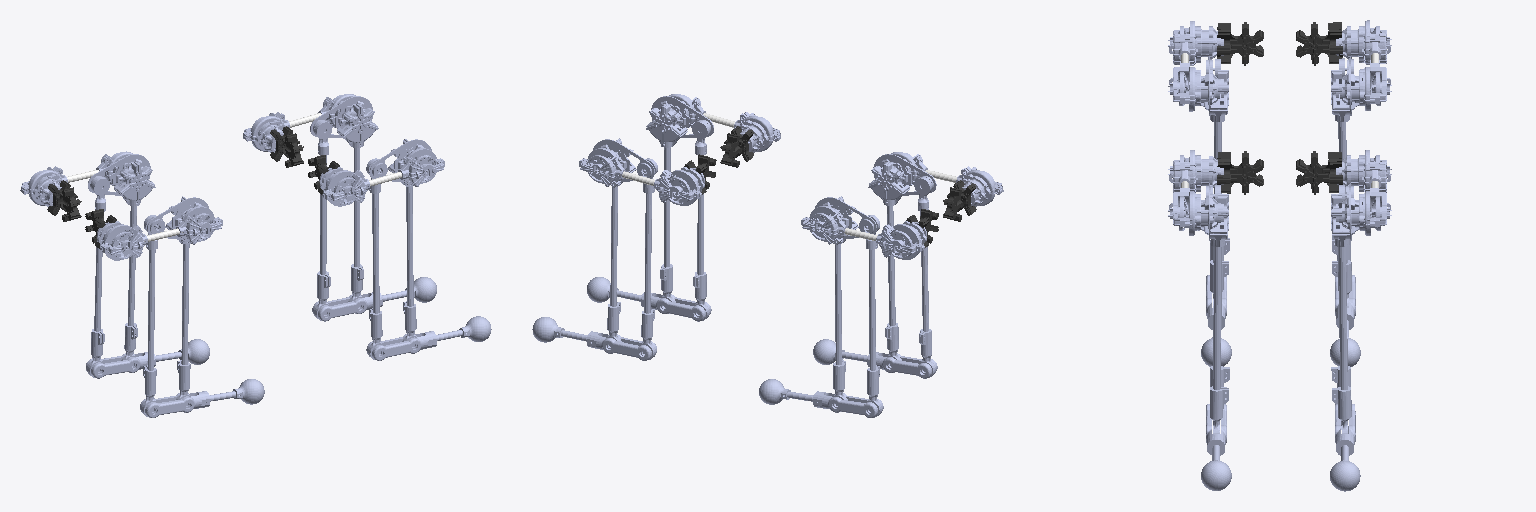
--- Facts derived from the render (not from the file) ---
Views: 3 orthographic renders of the robot side by side, from view 1: azimuth 30°, elevation 25°; view 2: azimuth 150°, elevation 25°; view 3: azimuth 270°, elevation 25°.
Model New_Simscape_Assem with 29 links and 28 joints (20 revolute, 8 fixed), rooted at Payload_Structure, posed every joint at zero.
Visible links, largest first — view 1: Tibia_FR, Knee_Actuator_BL, Knee_Actuator_FL, Tibia_BR, Foot_BL, Foot_FL, Foot_BR, Foot_FR, HS_Actuator_BL, HS_Actuator_FL, Fibula_BR, Fibula_BL (+10 smaller); view 2: Tibia_FL, Knee_Actuator_BR, Knee_Actuator_FR, Tibia_BL, Foot_BR, Foot_FR, Foot_BL, Foot_FL, HS_Actuator_BR, HS_Actuator_FR, Fibula_FR, Fibula_BR (+10 smaller); view 3: Tibia_BR, Tibia_BL, Knee_Actuator_FR, Knee_Actuator_FL, Knee_Actuator_BR, Knee_Actuator_BL, HS_Actuator_FL, HS_Actuator_FR, Foot_BR, Foot_BL, HS_Actuator_BR, HS_Actuator_BL (+8 smaller).
Boxes of the visible links, x1,y1,x2,y2 form: Tibia_FR: [114, 162, 155, 366]; Knee_Actuator_BL: [369, 139, 444, 187]; Knee_Actuator_FL: [147, 197, 222, 245]; Tibia_BR: [337, 104, 378, 313]; Foot_BL: [366, 316, 491, 360]; Foot_FL: [140, 379, 264, 417]; Foot_BR: [312, 277, 436, 321]; Foot_FR: [86, 339, 209, 378]; HS_Actuator_BL: [319, 167, 369, 206]; HS_Actuator_FL: [97, 221, 147, 260]; Fibula_BR: [314, 120, 331, 320]; Fibula_BL: [366, 158, 384, 359]; Tibia_FL: [868, 161, 909, 372]; Knee_Actuator_BR: [579, 139, 654, 187]; Knee_Actuator_FR: [801, 197, 876, 244]; Tibia_BL: [646, 104, 687, 313]; Foot_BR: [532, 317, 656, 360]; Foot_FR: [759, 379, 883, 417]; Foot_BL: [587, 277, 711, 321]; Foot_FL: [813, 339, 937, 378]; HS_Actuator_BR: [654, 167, 704, 205]; HS_Actuator_FR: [876, 221, 926, 259]; Fibula_FR: [866, 215, 882, 417]; Fibula_BR: [639, 158, 657, 359]; Tibia_BR: [1331, 194, 1351, 433]; Tibia_BL: [1210, 194, 1228, 433]; Knee_Actuator_FR: [1336, 57, 1391, 115]; Knee_Actuator_FL: [1168, 57, 1223, 115]; Knee_Actuator_BR: [1336, 183, 1391, 240]; Knee_Actuator_BL: [1168, 183, 1223, 240]; HS_Actuator_FL: [1168, 21, 1223, 65]; HS_Actuator_FR: [1336, 20, 1391, 64]; Foot_BR: [1330, 404, 1360, 491]; Foot_BL: [1201, 404, 1231, 490]; HS_Actuator_BR: [1336, 150, 1391, 192]; HS_Actuator_BL: [1168, 150, 1223, 192].
Size in the robot's own frame: 0.7123 by 0.2905 by 0.3847 metres.
28 mesh visuals loaded from 29 distinct referenced files (28 binary STL); not drawn: 1 (reference not matched to a file when rendering).

URDF robot description (New_Simscape_Assem):
<?xml version="1.0" encoding="utf-8"?>
<!-- This URDF was automatically created by SolidWorks to URDF Exporter! Originally created by Stephen Brawner ([email redacted]) 
     Commit Version:   Build Version: 1.6.8715.24790
     For more information, please see http://wiki.ros.org/sw_urdf_exporter 
     
     MODIFIED: Joint limits have been corrected to allow realistic motion -->
<robot
  name="New_Simscape_Assem">
  <link
    name="Payload_Structure">
    <inertial>
      <origin
        xyz="0.011584 -0.00010559 0.11423"
        rpy="0 0 0" />
      <mass
        value="4.1675" />
      <inertia
        ixx="0.015415"
        ixy="-7.8965E-08"
        ixz="1.9561E-05"
        iyy="0.023083"
        iyz="2.7336E-07"
        izz="0.035597" />
    </inertial>
    <visual>
      <origin
        xyz="0 0 0"
        rpy="0 0 0" />
      <geometry>
        <mesh
          filename="package://New_Simscape_Assem/meshes/Payload_Structure.STL" />
      </geometry>
      <material
        name="">
        <color
          rgba="0.79216 0.81961 0.93333 1" />
      </material>
    </visual>
    <collision>
      <origin
        xyz="0 0 0"
        rpy="0 0 0" />
      <geometry>
        <mesh
          filename="package://New_Simscape_Assem/meshes/Payload_Structure.STL" />
      </geometry>
    </collision>
  </link>
  <link
    name="Hip_Coupling_FR">
    <inertial>
      <origin
        xyz="0.010875 -0.016201 0.00298"
        rpy="0 0 0" />
      <mass
        value="0.028158" />
      <inertia
        ixx="6.702E-06"
        ixy="2.2014E-12"
        ixz="-1.9864E-07"
        iyy="9.5392E-06"
        iyz="1.9931E-12"
        izz="1.2481E-05" />
    </inertial>
    <visual>
      <origin
        xyz="0 0 0"
        rpy="0 0 0" />
      <geometry>
        <mesh
          filename="package://New_Simscape_Assem/meshes/Hip_Coupling_FR.STL" />
      </geometry>
      <material
        name="">
        <color
          rgba="0.29804 0.29804 0.29804 1" />
      </material>
    </visual>
    <collision>
      <origin
        xyz="0 0 0"
        rpy="0 0 0" />
      <geometry>
        <mesh
          filename="package://New_Simscape_Assem/meshes/Hip_Coupling_FR.STL" />
      </geometry>
    </collision>
  </link>
  <joint
    name="Hip_Frontal_FR"
    type="revolute">
    <origin
      xyz="-0.16725 0.045232 0.0074557"
      rpy="1.5708 -0.014386 1.5708" />
    <parent
      link="Payload_Structure" />
    <child
      link="Hip_Coupling_FR" />
    <axis
      xyz="0 0 -1" />
    <limit
      lower="-0.52"
      upper="0.52"
      effort="10"
      velocity="5" />
  </joint>
  <link
    name="HS_Actuator_FR">
    <inertial>
      <origin
        xyz="0.00311 0.016192 0.034844"
        rpy="0 0 0" />
      <mass
        value="0.067844" />
      <inertia
        ixx="1.1918E-05"
        ixy="-6.2189E-09"
        ixz="-2.7463E-07"
        iyy="1.7243E-05"
        iyz="2.5876E-09"
        izz="2.452E-05" />
    </inertial>
    <visual>
      <origin
        xyz="0 0 0"
        rpy="0 0 0" />
      <geometry>
        <mesh
          filename="package://New_Simscape_Assem/meshes/HS_Actuator_FR.STL" />
      </geometry>
      <material
        name="">
        <color
          rgba="0.79216 0.81961 0.93333 1" />
      </material>
    </visual>
    <collision>
      <origin
        xyz="0 0 0"
        rpy="0 0 0" />
      <geometry>
        <mesh
          filename="package://New_Simscape_Assem/meshes/HS_Actuator_FR.STL" />
      </geometry>
    </collision>
  </link>
  <joint
    name="Hip_Sagittal_FR"
    type="revolute">
    <origin
      xyz="0.028 0 0"
      rpy="-1.5708 -1.5602 -1.5708" />
    <parent
      link="Hip_Coupling_FR" />
    <child
      link="HS_Actuator_FR" />
    <axis
      xyz="0 0 1" />
    <limit
      lower="-1.57"
      upper="1.57"
      effort="10"
      velocity="5" />
  </joint>
  <link
    name="Femur_Bone_Link_FR">
    <inertial>
      <origin
        xyz="0.034748 0.00036808 0"
        rpy="0 0 0" />
      <mass
        value="0.0034978" />
      <inertia
        ixx="7.1859E-08"
        ixy="-1.4533E-08"
        ixz="-2.1151E-23"
        iyy="1.4436E-06"
        iyz="-1.6544E-24"
        izz="1.4438E-06" />
    </inertial>
    <visual>
      <origin
        xyz="0 0 0"
        rpy="0 0 0" />
      <geometry>
        <mesh
          filename="package://New_Simscape_Assem/meshes/Femur_Bone_Link_FR.STL" />
      </geometry>
      <material
        name="">
        <color
          rgba="1 1 1 1" />
      </material>
    </visual>
    <collision>
      <origin
        xyz="0 0 0"
        rpy="0 0 0" />
      <geometry>
        <mesh
          filename="package://New_Simscape_Assem/meshes/Femur_Bone_Link_FR.STL" />
      </geometry>
    </collision>
  </link>
  <joint
    name="Femur_HS_Bone_FR"
    type="fixed">
    <origin
      xyz="0.034467 0.0162 0.049654"
      rpy="0 0 -0.010592" />
    <parent
      link="HS_Actuator_FR" />
    <child
      link="Femur_Bone_Link_FR" />
    <axis
      xyz="0 0 0" />
  </joint>
  <link
    name="Knee_Actuator_FR">
    <inertial>
      <origin
        xyz="0.027651 0.00029746 -0.017407"
        rpy="0 0 0" />
      <mass
        value="0.079923" />
      <inertia
        ixx="1.4972E-05"
        ixy="-4.8675E-08"
        ixz="2.0342E-07"
        iyy="2.3754E-05"
        iyz="-1.101E-07"
        izz="3.3937E-05" />
    </inertial>
    <visual>
      <origin
        xyz="0 0 0"
        rpy="0 0 0" />
      <geometry>
        <mesh
          filename="package://New_Simscape_Assem/meshes/Knee_Actuator_FR.STL" />
      </geometry>
      <material
        name="">
        <color
          rgba="0.79216 0.81961 0.93333 1" />
      </material>
    </visual>
    <collision>
      <origin
        xyz="0 0 0"
        rpy="0 0 0" />
      <geometry>
        <mesh
          filename="package://New_Simscape_Assem/meshes/Knee_Actuator_FR.STL" />
      </geometry>
    </collision>
  </link>
  <joint
    name="Femur_Knee_Bone_FR"
    type="fixed">
    <origin
      xyz="0.069496 0.00073616 0"
      rpy="-0.014387 0 0.010592" />
    <parent
      link="Femur_Bone_Link_FR" />
    <child
      link="Knee_Actuator_FR" />
    <axis
      xyz="0 0 0" />
  </joint>
  <link
    name="Tibia_FR">
    <inertial>
      <origin
        xyz="-0.00075906 -0.13541 -0.0036986"
        rpy="0 0 0" />
      <mass
        value="0.043808" />
      <inertia
        ixx="3.5797E-05"
        ixy="-2.1809E-07"
        ixz="-1.1849E-08"
        iyy="7.4699E-06"
        iyz="-1.3207E-06"
        izz="4.0682E-05" />
    </inertial>
    <visual>
      <origin
        xyz="0 0 0"
        rpy="0 0 0" />
      <geometry>
        <mesh
          filename="package://New_Simscape_Assem/meshes/Tibia_FR.STL" />
      </geometry>
      <material
        name="">
        <color
          rgba="0.79216 0.81961 0.93333 1" />
      </material>
    </visual>
    <collision>
      <origin
        xyz="0 0 0"
        rpy="0 0 0" />
      <geometry>
        <mesh
          filename="package://New_Simscape_Assem/meshes/Tibia_FR.STL" />
      </geometry>
    </collision>
  </link>
  <joint
    name="Knee_FR"
    type="revolute">
    <origin
      xyz="0.034123 -0.015484 -0.049882"
      rpy="-3.1272 0 0" />
    <parent
      link="Knee_Actuator_FR" />
    <child
      link="Tibia_FR" />
    <axis
      xyz="0 0 -1" />
    <limit
      lower="-2.79"
      upper="0.0"
      effort="10"
      velocity="5" />
  </joint>
  <link
    name="Foot_FR">
    <inertial>
      <origin
        xyz="-3.1153E-09 0.054555 -6.059E-09"
        rpy="0 0 0" />
      <mass
        value="0.06772" />
      <inertia
        ixx="4.4724E-05"
        ixy="-5.6173E-12"
        ixz="3.9841E-13"
        iyy="9.3084E-06"
        iyz="-7.9193E-12"
        izz="4.3329E-05" />
    </inertial>
    <visual>
      <origin
        xyz="0 0 0"
        rpy="0 0 0" />
      <geometry>
        <mesh
          filename="package://New_Simscape_Assem/meshes/Foot_FR.STL" />
      </geometry>
      <material
        name="">
        <color
          rgba="0.79216 0.81961 0.93333 1" />
      </material>
    </visual>
    <collision>
      <origin
        xyz="0 0 0"
        rpy="0 0 0" />
      <geometry>
        <mesh
          filename="package://New_Simscape_Assem/meshes/Foot_FR.STL" />
      </geometry>
    </collision>
  </link>
  <joint
    name="Ankle_FR"
    type="revolute">
    <origin
      xyz="-0.0022548 -0.33023 -0.0065344"
      rpy="3.1416 0 1.5035" />
    <parent
      link="Tibia_FR" />
    <child
      link="Foot_FR" />
    <axis
      xyz="0 0 -1" />
    <limit
      lower="-2.79"
      upper="2.79"
      effort="10"
      velocity="5" />
    <mimic
      joint="Knee_FR"
      multiplier="-1"
      offset="0" />
  </joint>
  <link
    name="Fibula_FR">
    <inertial>
      <origin
        xyz="-0.0013388 -0.18118 -0.00079653"
        rpy="0 0 0" />
      <mass
        value="0.027121" />
      <inertia
        ixx="3.0139E-05"
        ixy="-2.1289E-07"
        ixz="-1.4006E-09"
        iyy="1.3297E-06"
        iyz="-1.8954E-07"
        izz="3.0504E-05" />
    </inertial>
    <visual>
      <origin
        xyz="0 0 0"
        rpy="0 0 0" />
      <geometry>
        <mesh
          filename="package://New_Simscape_Assem/meshes/Fibula_FR.STL" />
      </geometry>
      <material
        name="">
        <color
          rgba="0.79216 0.81961 0.93333 1" />
      </material>
    </visual>
    <collision>
      <origin
        xyz="0 0 0"
        rpy="0 0 0" />
      <geometry>
        <mesh
          filename="package://New_Simscape_Assem/meshes/Fibula_FR.STL" />
      </geometry>
    </collision>
  </link>
  <joint
    name="Knee_FourBar_FR"
    type="revolute">
    <origin
      xyz="-0.025705 0.0006448 -0.044815"
      rpy="-3.1272 0 0" />
    <parent
      link="Knee_Actuator_FR" />
    <child
      link="Fibula_FR" />
    <axis
      xyz="0 0 1" />
    <limit
      lower="-2.79"
      upper="2.79"
      effort="10"
      velocity="5" />
    <mimic
      joint="Knee_FR"
      multiplier="1"
      offset="0" />
  </joint>
  <link
    name="Hip_Coupling_FL">
    <inertial>
      <origin
        xyz="-0.017303 0.015071 0.00298"
        rpy="0 0 0" />
      <mass
        value="0.028158" />
      <inertia
        ixx="6.702E-06"
        ixy="2.2224E-12"
        ixz="1.9864E-07"
        iyy="9.5392E-06"
        iyz="-1.9886E-12"
        izz="1.2481E-05" />
    </inertial>
    <visual>
      <origin
        xyz="0 0 0"
        rpy="0 0 0" />
      <geometry>
        <mesh
          filename="package://New_Simscape_Assem/meshes/Hip_Coupling_FL.STL" />
      </geometry>
      <material
        name="">
        <color
          rgba="0.29804 0.29804 0.29804 1" />
      </material>
    </visual>
    <collision>
      <origin
        xyz="0 0 0"
        rpy="0 0 0" />
      <geometry>
        <mesh
          filename="package://New_Simscape_Assem/meshes/Hip_Coupling_FL.STL" />
      </geometry>
    </collision>
  </link>
  <joint
    name="Hip_Frontal_FL"
    type="revolute">
    <origin
      xyz="-0.16725 -0.039143 -0.023862"
      rpy="1.5708 0.0069367 1.5708" />
    <parent
      link="Payload_Structure" />
    <child
      link="Hip_Coupling_FL" />
    <axis
      xyz="0 0 -1" />
    <limit
      lower="-0.52"
      upper="0.52"
      effort="10"
      velocity="5" />
  </joint>
  <link
    name="HS_Actuator_FL">
    <inertial>
      <origin
        xyz="0.0027269 0.024806 0.043022"
        rpy="0 0 0" />
      <mass
        value="0.067844" />
      <inertia
        ixx="1.1918E-05"
        ixy="-6.219E-09"
        ixz="-2.7463E-07"
        iyy="1.7243E-05"
        iyz="2.5876E-09"
        izz="2.452E-05" />
    </inertial>
    <visual>
      <origin
        xyz="0 0 0"
        rpy="0 0 0" />
      <geometry>
        <mesh
          filename="package://New_Simscape_Assem/meshes/HS_Actuator_FL.STL" />
      </geometry>
      <material
        name="">
        <color
          rgba="0.79216 0.81961 0.93333 1" />
      </material>
    </visual>
    <collision>
      <origin
        xyz="0 0 0"
        rpy="0 0 0" />
      <geometry>
        <mesh
          filename="package://New_Simscape_Assem/meshes/HS_Actuator_FL.STL" />
      </geometry>
    </collision>
  </link>
  <joint
    name="Hip_Sagittal_FL"
    type="revolute">
    <origin
      xyz="-0.02625 -0.0097433 0"
      rpy="1.5708 -1.5623 -1.5708" />
    <parent
      link="Hip_Coupling_FL" />
    <child
      link="HS_Actuator_FL" />
    <axis
      xyz="0.0029667 -0.34796 0.9375" />
    <limit
      lower="-1.57"
      upper="1.57"
      effort="10"
      velocity="5" />
  </joint>
  <link
    name="Femur_Bone_Link_FL">
    <inertial>
      <origin
        xyz="0.03475 -3.4694E-18 0"
        rpy="0 0 0" />
      <mass
        value="0.0034978" />
      <inertia
        ixx="7.1705E-08"
        ixy="-4.4422E-24"
        ixz="6.9166E-23"
        iyy="1.4438E-06"
        iyz="-3.2574E-25"
        izz="1.4438E-06" />
    </inertial>
    <visual>
      <origin
        xyz="0 0 0"
        rpy="0 0 0" />
      <geometry>
        <mesh
          filename="package://New_Simscape_Assem/meshes/Femur_Bone_Link_FL.STL" />
      </geometry>
      <material
        name="">
        <color
          rgba="1 1 1 1" />
      </material>
    </visual>
    <collision>
      <origin
        xyz="0 0 0"
        rpy="0 0 0" />
      <geometry>
        <mesh
          filename="package://New_Simscape_Assem/meshes/Femur_Bone_Link_FL.STL" />
      </geometry>
    </collision>
  </link>
  <joint
    name="Femur_HS_Bone_FL"
    type="fixed">
    <origin
      xyz="0.034083 0.024813 0.057832"
      rpy="0.006937 0 0" />
    <parent
      link="HS_Actuator_FL" />
    <child
      link="Femur_Bone_Link_FL" />
    <axis
      xyz="0 0 0" />
  </joint>
  <link
    name="Knee_Actuator_FL">
    <inertial>
      <origin
        xyz="0.027651 -7.3772E-05 -0.01741"
        rpy="0 0 0" />
      <mass
        value="0.079923" />
      <inertia
        ixx="1.4972E-05"
        ixy="-4.4326E-08"
        ixz="2.0441E-07"
        iyy="2.3754E-05"
        iyz="1.0709E-07"
        izz="3.3937E-05" />
    </inertial>
    <visual>
      <origin
        xyz="0 0 0"
        rpy="0 0 0" />
      <geometry>
        <mesh
          filename="package://New_Simscape_Assem/meshes/Knee_Actuator_FL.STL" />
      </geometry>
      <material
        name="">
        <color
          rgba="0.79216 0.81961 0.93333 1" />
      </material>
    </visual>
    <collision>
      <origin
        xyz="0 0 0"
        rpy="0 0 0" />
      <geometry>
        <mesh
          filename="package://New_Simscape_Assem/meshes/Knee_Actuator_FL.STL" />
      </geometry>
    </collision>
  </link>
  <joint
    name="Femur_Knee_Bone_FL"
    type="fixed">
    <origin
      xyz="0.0695 0 0"
      rpy="0 0 0" />
    <parent
      link="Femur_Bone_Link_FL" />
    <child
      link="Knee_Actuator_FL" />
    <axis
      xyz="0 0 0" />
  </joint>
  <link
    name="Tibia_FL">
    <inertial>
      <origin
        xyz="0.0013233 -0.094467 -0.012286"
        rpy="0 0 0" />
      <mass
        value="0.043808" />
      <inertia
        ixx="3.5796E-05"
        ixy="2.6742E-07"
        ixz="1.0785E-08"
        iyy="7.4708E-06"
        iyz="-1.3207E-06"
        izz="4.0682E-05" />
    </inertial>
    <visual>
      <origin
        xyz="0 0 0"
        rpy="0 0 0" />
      <geometry>
        <mesh
          filename="package://New_Simscape_Assem/meshes/Tibia_FL.STL" />
      </geometry>
      <material
        name="">
        <color
          rgba="0.79216 0.81961 0.93333 1" />
      </material>
    </visual>
    <collision>
      <origin
        xyz="0 0 0"
        rpy="0 0 0" />
      <geometry>
        <mesh
          filename="package://New_Simscape_Assem/meshes/Tibia_FL.STL" />
      </geometry>
    </collision>
  </link>
  <joint
    name="Knee_FL"
    type="revolute">
    <origin
      xyz="0.034506 -0.025143 -0.058068"
      rpy="-3.1347 0 3.1416" />
    <parent
      link="Knee_Actuator_FL" />
    <child
      link="Tibia_FL" />
    <axis
      xyz="0 0 -1" />
    <limit
      lower="-2.79"
      upper="0.0"
      effort="10"
      velocity="5" />
  </joint>
  <link
    name="Foot_FL">
    <inertial>
      <origin
        xyz="4.9046E-09 -0.054555 -6.5907E-09"
        rpy="0 0 0" />
      <mass
        value="0.06772" />
      <inertia
        ixx="4.4724E-05"
        ixy="-2.8637E-12"
        ixz="-8.2868E-13"
        iyy="9.3084E-06"
        iyz="6.5864E-12"
        izz="4.3329E-05" />
    </inertial>
    <visual>
      <origin
        xyz="0 0 0"
        rpy="0 0 0" />
      <geometry>
        <mesh
          filename="package://New_Simscape_Assem/meshes/Foot_FL.STL" />
      </geometry>
      <material
        name="">
        <color
          rgba="0.79216 0.81961 0.93333 1" />
      </material>
    </visual>
    <collision>
      <origin
        xyz="0 0 0"
        rpy="0 0 0" />
      <geometry>
        <mesh
          filename="package://New_Simscape_Assem/meshes/Foot_FL.STL" />
      </geometry>
    </collision>
  </link>
  <joint
    name="Ankle_FL"
    type="revolute">
    <origin
      xyz="0.0031664 -0.28928 -0.015121"
      rpy="3.1416 0 1.6381" />
    <parent
      link="Tibia_FL" />
    <child
      link="Foot_FL" />
    <axis
      xyz="0 0 -1" />
    <limit
      lower="-2.79"
      upper="2.79"
      effort="10"
      velocity="5" />
    <mimic
      joint="Knee_FL"
      multiplier="-1"
      offset="0" />
  </joint>
  <link
    name="Fibula_FL">
    <inertial>
      <origin
        xyz="0.0016481 -0.18118 -0.00079654"
        rpy="0 0 0" />
      <mass
        value="0.02712" />
      <inertia
        ixx="3.0139E-05"
        ixy="2.6207E-07"
        ixz="1.724E-09"
        iyy="1.3305E-06"
        iyz="-1.8954E-07"
        izz="3.0504E-05" />
    </inertial>
    <visual>
      <origin
        xyz="0 0 0"
        rpy="0 0 0" />
      <geometry>
        <mesh
          filename="package://New_Simscape_Assem/meshes/Fibula_FL.STL" />
      </geometry>
      <material
        name="">
        <color
          rgba="0.79216 0.81961 0.93333 1" />
      </material>
    </visual>
    <collision>
      <origin
        xyz="0 0 0"
        rpy="0 0 0" />
      <geometry>
        <mesh
          filename="package://New_Simscape_Assem/meshes/Fibula_FL.STL" />
      </geometry>
    </collision>
  </link>
  <joint
    name="Knee_FourBar_FL"
    type="revolute">
    <origin
      xyz="-0.025705 -0.00031091 -0.044819"
      rpy="-3.1347 0 3.1416" />
    <parent
      link="Knee_Actuator_FL" />
    <child
      link="Fibula_FL" />
    <axis
      xyz="0 0 1" />
    <limit
      lower="-2.79"
      upper="2.79"
      effort="10"
      velocity="5" />
    <mimic
      joint="Knee_FL"
      multiplier="1"
      offset="0" />
  </joint>
  <link
    name="Hip_Coupling_BR">
    <inertial>
      <origin
        xyz="0.010764 -0.016221 0.00298"
        rpy="0 0 0" />
      <mass
        value="0.028158" />
      <inertia
        ixx="6.702E-06"
        ixy="2.2026E-12"
        ixz="-1.9864E-07"
        iyy="9.5392E-06"
        iyz="1.9927E-12"
        izz="1.2481E-05" />
    </inertial>
    <visual>
      <origin
        xyz="0 0 0"
        rpy="0 0 0" />
      <geometry>
        <mesh
          filename="package://New_Simscape_Assem/meshes/Hip_Coupling_BR.STL" />
      </geometry>
      <material
        name="">
        <color
          rgba="0.29804 0.29804 0.29804 1" />
      </material>
    </visual>
    <collision>
      <origin
        xyz="0 0 0"
        rpy="0 0 0" />
      <geometry>
        <mesh
          filename="package://New_Simscape_Assem/meshes/Hip_Coupling_BR.STL" />
      </geometry>
    </collision>
  </link>
  <joint
    name="Hip_Frontal_BR"
    type="revolute">
    <origin
      xyz="0.22765 0.045354 0.0071276"
      rpy="1.5708 -0.013727 1.5708" />
    <parent
      link="Payload_Structure" />
    <child
      link="Hip_Coupling_BR" />
    <axis
      xyz="0 0 -1" />
    <limit
      lower="-0.52"
      upper="0.52"
      effort="10"
      velocity="5" />
  </joint>
  <link
    name="HS_Actuator_BR">
    <inertial>
      <origin
        xyz="0.0023395 0.016202 0.034733"
        rpy="0 0 0" />
      <mass
        value="0.067844" />
      <inertia
        ixx="1.1918E-05"
        ixy="-6.2188E-09"
        ixz="-2.7463E-07"
        iyy="1.7243E-05"
        iyz="2.5875E-09"
        izz="2.452E-05" />
    </inertial>
    <visual>
      <origin
        xyz="0 0 0"
        rpy="0 0 0" />
      <geometry>
        <mesh
          filename="package://New_Simscape_Assem/meshes/HS_Actuator_BR.STL" />
      </geometry>
      <material
        name="">
        <color
          rgba="0.79216 0.81961 0.93333 1" />
      </material>
    </visual>
    <collision>
      <origin
        xyz="0 0 0"
        rpy="0 0 0" />
      <geometry>
        <mesh
          filename="package://New_Simscape_Assem/meshes/HS_Actuator_BR.STL" />
      </geometry>
    </collision>
  </link>
  <joint
    name="Hip_Sagittal_BR"
    type="revolute">
    <origin
      xyz="0.028 0 0"
      rpy="1.5708 -1.5339 1.5708" />
    <parent
      link="Hip_Coupling_BR" />
    <child
      link="HS_Actuator_BR" />
    <axis
      xyz="0 0 1" />
    <limit
      lower="-1.57"
      upper="1.57"
      effort="10"
      velocity="5" />
  </joint>
  <link
    name="Femur_Bone_Link_BR">
    <inertial>
      <origin
        xyz="0.03475 3.4694E-18 6.9389E-17"
        rpy="0 0 0" />
      <mass
        value="0.0034978" />
      <inertia
        ixx="7.1705E-08"
        ixy="2.1517E-23"
        ixz="2.835E-23"
        iyy="1.4438E-06"
        iyz="-4.6173E-24"
        izz="1.4438E-06" />
    </inertial>
    <visual>
      <origin
        xyz="0 0 0"
        rpy="0 0 0" />
      <geometry>
        <mesh
          filename="package://New_Simscape_Assem/meshes/Femur_Bone_Link_BR.STL" />
      </geometry>
      <material
        name="">
        <color
          rgba="1 1 1 1" />
      </material>
    </visual>
    <collision>
      <origin
        xyz="0 0 0"
        rpy="0 0 0" />
      <geometry>
        <mesh
          filename="package://New_Simscape_Assem/meshes/Femur_Bone_Link_BR.STL" />
      </geometry>
    </collision>
  </link>
  <joint
    name="Femur_HS_Bone_BR"
    type="fixed">
    <origin
      xyz="0.033696 0.01621 0.049543"
      rpy="-0.013736 0 0" />
    <parent
      link="HS_Actuator_BR" />
    <child
      link="Femur_Bone_Link_BR" />
    <axis
      xyz="0 0 0" />
  </joint>
  <link
    name="Knee_Actuator_BR">
    <inertial>
      <origin
        xyz="0.027634 -0.00097396 -0.01741"
        rpy="0 0 0" />
      <mass
        value="0.079923" />
      <inertia
        ixx="1.498E-05"
        ixy="2.7838E-07"
        ixz="2.053E-07"
        iyy="2.3744E-05"
        iyz="2.8875E-08"
        izz="3.3938E-05" />
    </inertial>
    <visual>
      <origin
        xyz="0 0 0"
        rpy="0 0 0" />
      <geometry>
        <mesh
          filename="package://New_Simscape_Assem/meshes/Knee_Actuator_BR.STL" />
      </geometry>
      <material
        name="">
        <color
          rgba="0.79216 0.81961 0.93333 1" />
      </material>
    </visual>
    <collision>
      <origin
        xyz="0 0 0"
        rpy="0 0 0" />
      <geometry>
        <mesh
          filename="package://New_Simscape_Assem/meshes/Knee_Actuator_BR.STL" />
      </geometry>
    </collision>
  </link>
  <joint
    name="Femur_Knee_Bone_BR"
    type="fixed">
    <origin
      xyz="0.0695 0 0"
      rpy="0.013727 -0.00050716 0.036927" />
    <parent
      link="Femur_Bone_Link_BR" />
    <child
      link="Knee_Actuator_BR" />
    <axis
      xyz="0 0 0" />
  </joint>
  <link
    name="Tibia_BR">
    <inertial>
      <origin
        xyz="-0.0043614 -0.13536 -0.0035872"
        rpy="0 0 0" />
      <mass
        value="0.043808" />
      <inertia
        ixx="3.5771E-05"
        ixy="-8.9062E-07"
        ixz="-4.3222E-08"
        iyy="7.4963E-06"
        iyz="-1.32E-06"
        izz="4.0682E-05" />
    </inertial>
    <visual>
      <origin
        xyz="0 0 0"
        rpy="0 0 0" />
      <geometry>
        <mesh
          filename="package://New_Simscape_Assem/meshes/Tibia_BR.STL" />
      </geometry>
      <material
        name="">
        <color
          rgba="0.79216 0.81961 0.93333 1" />
      </material>
    </visual>
    <collision>
      <origin
        xyz="0 0 0"
        rpy="0 0 0" />
      <geometry>
        <mesh
          filename="package://New_Simscape_Assem/meshes/Tibia_BR.STL" />
      </geometry>
    </collision>
  </link>
  <joint
    name="Knee_BR"
    type="revolute">
    <origin
      xyz="0.034272 -0.017487 -0.049543"
      rpy="3.1416 0 -0.036931" />
    <parent
      link="Knee_Actuator_BR" />
    <child
      link="Tibia_BR" />
    <axis
      xyz="0 0 -1" />
    <limit
      lower="-2.79"
      upper="0.0"
      effort="10"
      velocity="5" />
  </joint>
  <link
    name="Foot_BR">
    <inertial>
      <origin
        xyz="-3.7324E-09 0.054555 -6.3422E-09"
        rpy="0 0 0" />
      <mass
        value="0.06772" />
      <inertia
        ixx="4.4724E-05"
        ixy="-4.7238E-12"
        ixz="5.7482E-13"
        iyy="9.3084E-06"
        iyz="-7.48E-12"
        izz="4.3329E-05" />
    </inertial>
    <visual>
      <origin
        xyz="0 0 0"
        rpy="0 0 0" />
      <geometry>
        <mesh
          filename="package://New_Simscape_Assem/meshes/Foot_BR.STL" />
      </geometry>
      <material
        name="">
        <color
          rgba="0.79216 0.81961 0.93333 1" />
      </material>
    </visual>
    <collision>
      <origin
        xyz="0 0 0"
        rpy="0 0 0" />
      <geometry>
        <mesh
          filename="package://New_Simscape_Assem/meshes/Foot_BR.STL" />
      </geometry>
    </collision>
  </link>
  <joint
    name="Ankle_BR"
    type="revolute">
    <origin
      xyz="-0.010485 -0.33009 -0.006423"
      rpy="-3.1416 0 1.5035" />
    <parent
      link="Tibia_BR" />
    <child
      link="Foot_BR" />
    <axis
      xyz="0 0 -1" />
    <limit
      lower="-2.79"
      upper="2.79"
      effort="10"
      velocity="5" />
    <mimic
      joint="Knee_BR"
      multiplier="-1"
      offset="0" />
  </joint>
  <link
    name="Fibula_BR">
    <inertial>
      <origin
        xyz="-0.0056989 -0.1811 -0.00079654"
        rpy="0 0 0" />
      <mass
        value="0.02712" />
      <inertia
        ixx="3.0113E-05"
        ixy="-9.058E-07"
        ixz="-5.9618E-09"
        iyy="1.3567E-06"
        iyz="-1.8945E-07"
        izz="3.0504E-05" />
    </inertial>
    <visual>
      <origin
        xyz="0 0 0"
        rpy="0 0 0" />
      <geometry>
        <mesh
          filename="package://New_Simscape_Assem/meshes/Fibula_BR.STL" />
      </geometry>
      <material
        name="">
        <color
          rgba="0.79216 0.81961 0.93333 1" />
      </material>
    </visual>
    <collision>
      <origin
        xyz="0 0 0"
        rpy="0 0 0" />
      <geometry>
        <mesh
          filename="package://New_Simscape_Assem/meshes/Fibula_BR.STL" />
      </geometry>
    </collision>
  </link>
  <joint
    name="Knee_FourBar_BR"
    type="revolute">
    <origin
      xyz="-0.025687 0.00094908 -0.04482"
      rpy="3.1416 0 -0.036931" />
    <parent
      link="Knee_Actuator_BR" />
    <child
      link="Fibula_BR" />
    <axis
      xyz="0 0 1" />
    <limit
      lower="-2.79"
      upper="2.79"
      effort="10"
      velocity="5" />
    <mimic
      joint="Knee_BR"
      multiplier="1"
      offset="0" />
  </joint>
  <link
    name="Hip_Coupling_BL">
    <inertial>
      <origin
        xyz="-0.017436 0.015044 0.00298"
        rpy="0 0 0" />
      <mass
        value="0.028158" />
      <inertia
        ixx="6.702E-06"
        ixy="2.2218E-12"
        ixz="1.9864E-07"
        iyy="9.5392E-06"
        iyz="-1.9891E-12"
        izz="1.2481E-05" />
    </inertial>
    <visual>
      <origin
        xyz="0 0 0"
        rpy="0 0 0" />
      <geometry>
        <mesh
          filename="package://New_Simscape_Assem/meshes/Hip_Coupling_BL.STL" />
      </geometry>
      <material
        name="">
        <color
          rgba="0.29804 0.29804 0.29804 1" />
      </material>
    </visual>
    <collision>
      <origin
        xyz="0 0 0"
        rpy="0 0 0" />
      <geometry>
        <mesh
          filename="package://New_Simscape_Assem/meshes/Hip_Coupling_BL.STL" />
      </geometry>
    </collision>
  </link>
  <joint
    name="Hip_Frontal_BL"
    type="revolute">
    <origin
      xyz="0.22765 -0.039021 -0.02419"
      rpy="1.5708 0.0076853 1.5708" />
    <parent
      link="Payload_Structure" />
    <child
      link="Hip_Coupling_BL" />
    <axis
      xyz="0 0 -1" />
    <limit
      lower="-0.52"
      upper="0.52"
      effort="10"
      velocity="5" />
  </joint>
  <link
    name="HS_Actuator_BL">
    <inertial>
      <origin
        xyz="0.0035347 0.015024 0.041405"
        rpy="0 0 0" />
      <mass
        value="0.067844" />
      <inertia
        ixx="1.1918E-05"
        ixy="-6.2191E-09"
        ixz="-2.7463E-07"
        iyy="1.7243E-05"
        iyz="2.5877E-09"
        izz="2.452E-05" />
    </inertial>
    <visual>
      <origin
        xyz="0 0 0"
        rpy="0 0 0" />
      <geometry>
        <mesh
          filename="package://New_Simscape_Assem/meshes/HS_Actuator_BL.STL" />
      </geometry>
      <material
        name="">
        <color
          rgba="0.79216 0.81961 0.93333 1" />
      </material>
    </visual>
    <collision>
      <origin
        xyz="0 0 0"
        rpy="0 0 0" />
      <geometry>
        <mesh
          filename="package://New_Simscape_Assem/meshes/HS_Actuator_BL.STL" />
      </geometry>
    </collision>
  </link>
  <joint
    name="Hip_Sagittal_BL"
    type="revolute">
    <origin
      xyz="-0.028 0 0"
      rpy="-1.5708 -1.5312 1.5708" />
    <parent
      link="Hip_Coupling_BL" />
    <child
      link="HS_Actuator_BL" />
    <axis
      xyz="0 0 1" />
    <limit
      lower="-1.57"
      upper="1.57"
      effort="10"
      velocity="5" />
  </joint>
  <link
    name="Femur_Bone_Link_BL">
    <inertial>
      <origin
        xyz="0.034723 0.0013773 2.7756E-17"
        rpy="0 0 0" />
      <mass
        value="0.0034978" />
      <inertia
        ixx="7.3861E-08"
        ixy="-5.4339E-08"
        ixz="9.1421E-23"
        iyy="1.4416E-06"
        iyz="7.4446E-24"
        izz="1.4438E-06" />
    </inertial>
    <visual>
      <origin
        xyz="0 0 0"
        rpy="0 0 0" />
      <geometry>
        <mesh
          filename="package://New_Simscape_Assem/meshes/Femur_Bone_Link_BL.STL" />
      </geometry>
      <material
        name="">
        <color
          rgba="1 1 1 1" />
      </material>
    </visual>
    <collision>
      <origin
        xyz="0 0 0"
        rpy="0 0 0" />
      <geometry>
        <mesh
          filename="package://New_Simscape_Assem/meshes/Femur_Bone_Link_BL.STL" />
      </geometry>
    </collision>
  </link>
  <joint
    name="Femur_HS_Bone_BL"
    type="fixed">
    <origin
      xyz="0.034891 0.015032 0.056215"
      rpy="0 0 -0.039644" />
    <parent
      link="HS_Actuator_BL" />
    <child
      link="Femur_Bone_Link_BL" />
    <axis
      xyz="0 0 0" />
  </joint>
  <link
    name="Knee_Actuator_BL">
    <inertial>
      <origin
        xyz="0.027651 -8.6906E-05 -0.01741"
        rpy="0 0 0" />
      <mass
        value="0.079923" />
      <inertia
        ixx="1.4972E-05"
        ixy="-4.4172E-08"
        ixz="2.0444E-07"
        iyy="2.3754E-05"
        iyz="1.1477E-07"
        izz="3.3937E-05" />
    </inertial>
    <visual>
      <origin
        xyz="0 0 0"
        rpy="0 0 0" />
      <geometry>
        <mesh
          filename="package://New_Simscape_Assem/meshes/Knee_Actuator_BL.STL" />
      </geometry>
      <material
        name="">
        <color
          rgba="0.79216 0.81961 0.93333 1" />
      </material>
    </visual>
    <collision>
      <origin
        xyz="0 0 0"
        rpy="0 0 0" />
      <geometry>
        <mesh
          filename="package://New_Simscape_Assem/meshes/Knee_Actuator_BL.STL" />
      </geometry>
    </collision>
  </link>
  <joint
    name="Femur_Knee_Bone_BL"
    type="fixed">
    <origin
      xyz="0.069445 0.0027546 0"
      rpy="0.0076914 0 0.039644" />
    <parent
      link="Femur_Bone_Link_BL" />
    <child
      link="Knee_Actuator_BL" />
    <axis
      xyz="0 0 0" />
  </joint>
  <link
    name="Tibia_BL">
    <inertial>
      <origin
        xyz="0.0034637 -0.10411 -0.010259"
        rpy="0 0 0" />
      <mass
        value="0.043808" />
      <inertia
        ixx="3.5766E-05"
        ixy="9.6733E-07"
        ixz="4.3441E-08"
        iyy="7.5013E-06"
        iyz="-1.32E-06"
        izz="4.0682E-05" />
    </inertial>
    <visual>
      <origin
        xyz="0 0 0"
        rpy="0 0 0" />
      <geometry>
        <mesh
          filename="package://New_Simscape_Assem/meshes/Tibia_BL.STL" />
      </geometry>
      <material
        name="">
        <color
          rgba="0.79216 0.81961 0.93333 1" />
      </material>
    </visual>
    <collision>
      <origin
        xyz="0 0 0"
        rpy="0 0 0" />
      <geometry>
        <mesh
          filename="package://New_Simscape_Assem/meshes/Tibia_BL.STL" />
      </geometry>
    </collision>
  </link>
  <joint
    name="Knee_BL"
    type="revolute">
    <origin
      xyz="0.033699 -0.015464 -0.056097"
      rpy="-3.1339 0 -3.1416" />
    <parent
      link="Knee_Actuator_BL" />
    <child
      link="Tibia_BL" />
    <axis
      xyz="0 0 -1" />
    <limit
      lower="-2.79"
      upper="0.0"
      effort="10"
      velocity="5" />
  </joint>
  <link
    name="Foot_BL">
    <inertial>
      <origin
        xyz="4.3292E-09 -0.054555 -6.5148E-09"
        rpy="0 0 0" />
      <mass
        value="0.06772" />
      <inertia
        ixx="4.4724E-05"
        ixy="-3.8843E-12"
        ixz="-7.3451E-13"
        iyy="9.3084E-06"
        iyz="7.0526E-12"
        izz="4.3329E-05" />
    </inertial>
    <visual>
      <origin
        xyz="0 0 0"
        rpy="0 0 0" />
      <geometry>
        <mesh
          filename="package://New_Simscape_Assem/meshes/Foot_BL.STL" />
      </geometry>
      <material
        name="">
        <color
          rgba="0.79216 0.81961 0.93333 1" />
      </material>
    </visual>
    <collision>
      <origin
        xyz="0 0 0"
        rpy="0 0 0" />
      <geometry>
        <mesh
          filename="package://New_Simscape_Assem/meshes/Foot_BL.STL" />
      </geometry>
    </collision>
  </link>
  <joint
    name="Ankle_BL"
    type="revolute">
    <origin
      xyz="0.010124 -0.29882 -0.013095"
      rpy="-3.1416 0 1.6381" />
    <parent
      link="Tibia_BL" />
    <child
      link="Foot_BL" />
    <axis
      xyz="0 0 -1" />
    <limit
      lower="-2.79"
      upper="2.79"
      effort="10"
      velocity="5" />
    <mimic
      joint="Knee_BL"
      multiplier="-1"
      offset="0" />
  </joint>
  <link
    name="Fibula_BL">
    <inertial>
      <origin
        xyz="0.0061863 -0.18108 -0.00079653"
        rpy="0 0 0" />
      <mass
        value="0.027121" />
      <inertia
        ixx="3.0107E-05"
        ixy="9.8319E-07"
        ixz="6.4716E-09"
        iyy="1.3618E-06"
        iyz="-1.8943E-07"
        izz="3.0504E-05" />
    </inertial>
    <visual>
      <origin
        xyz="0 0 0"
        rpy="0 0 0" />
      <geometry>
        <mesh
          filename="package://New_Simscape_Assem/meshes/Fibula_BL.STL" />
      </geometry>
      <material
        name="">
        <color
          rgba="0.79216 0.81961 0.93333 1" />
      </material>
    </visual>
    <collision>
      <origin
        xyz="0 0 0"
        rpy="0 0 0" />
      <geometry>
        <mesh
          filename="package://New_Simscape_Assem/meshes/Fibula_BL.STL" />
      </geometry>
    </collision>
  </link>
  <joint
    name="Knee_Fourbar_BL"
    type="revolute">
    <origin
      xyz="-0.025705 -0.00034472 -0.044819"
      rpy="-3.1339 0 -3.1416" />
    <parent
      link="Knee_Actuator_BL" />
    <child
      link="Fibula_BL" />
    <axis
      xyz="0 0 1" />
    <limit
      lower="-2.79"
      upper="2.79"
      effort="10"
      velocity="5" />
    <mimic
      joint="Knee_BL"
      multiplier="1"
      offset="0" />
  </joint>
</robot>
